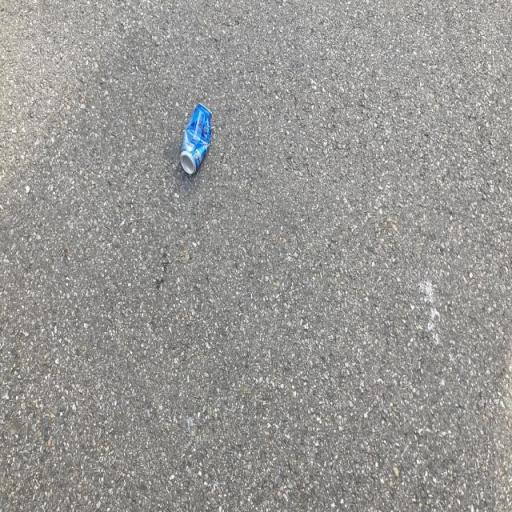metal: (164, 84, 227, 200)
